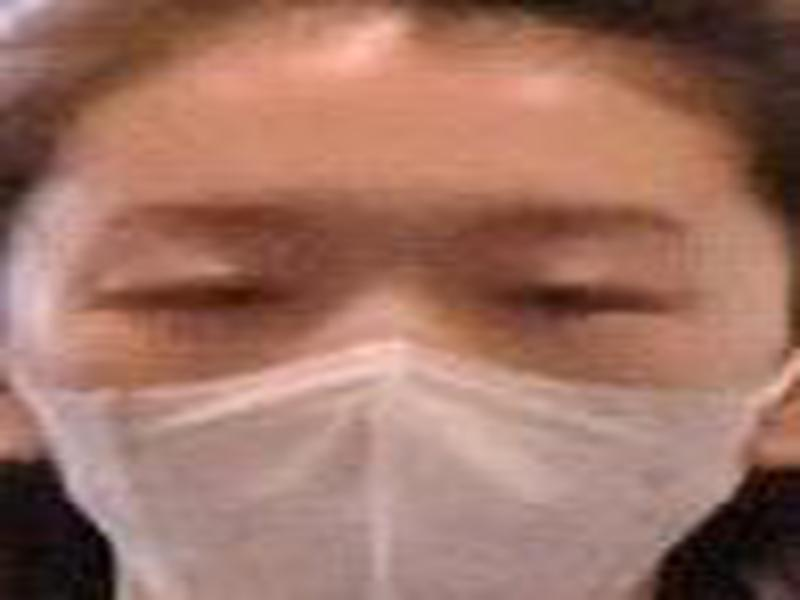with_mask: (1, 9, 792, 600)
